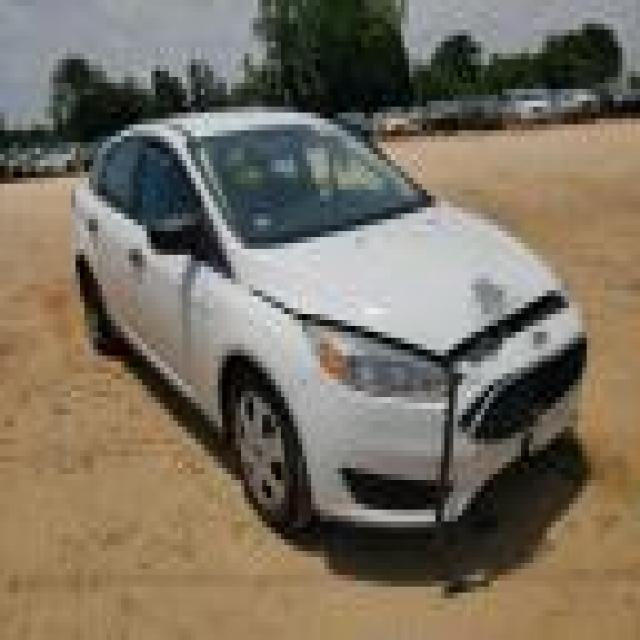minor: (418, 290, 640, 640)
